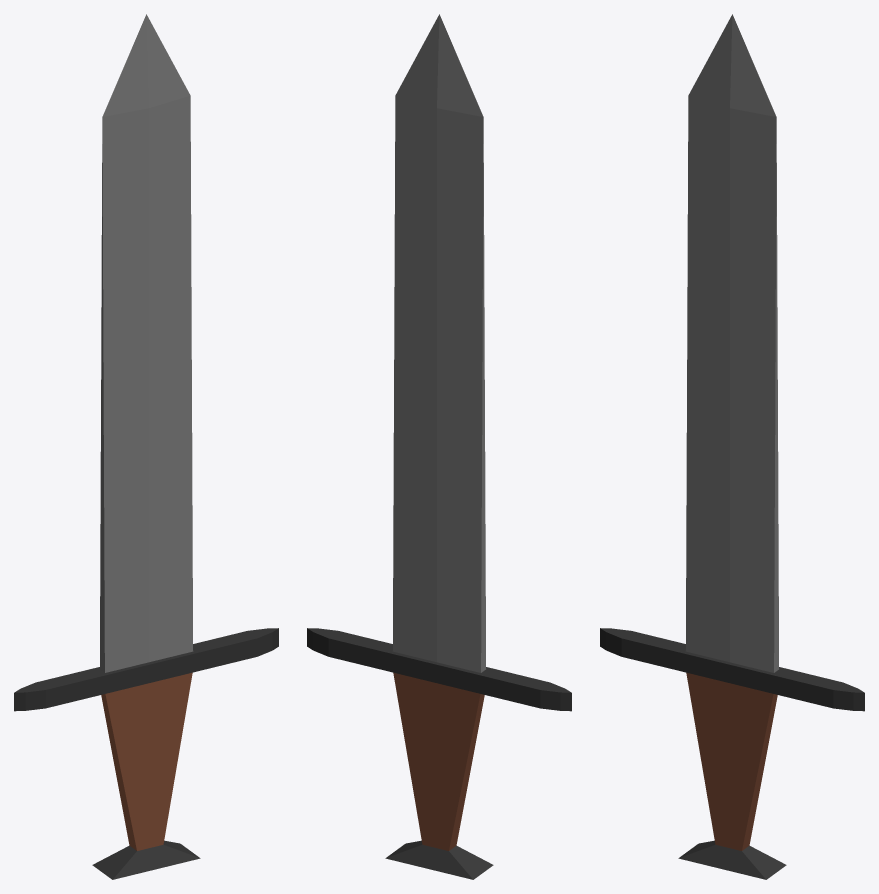
File: IronSword.fbx
The picture shows the model from 3 angles, left to right: view 1: azimuth 30°, elevation 25°; view 2: azimuth 150°, elevation 25°; view 3: azimuth 330°, elevation 25°; orthographic projection.
Visible parts, largest first — view 1: Cube; view 2: Cube; view 3: Cube.
Boxes of the visible parts, bbox=[...] form: Cube: bbox=[14, 14, 278, 879]; Cube: bbox=[307, 14, 571, 879]; Cube: bbox=[600, 14, 864, 879].
Bounding box in the file's own units: 30 × 92 × 4.
